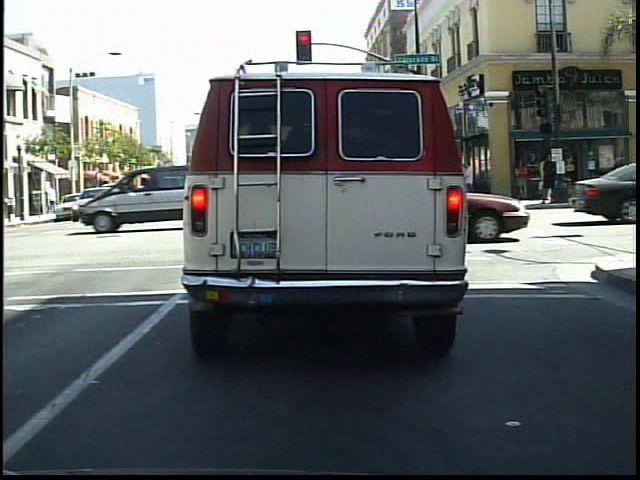person: (538, 152, 562, 208), (511, 157, 532, 204)
